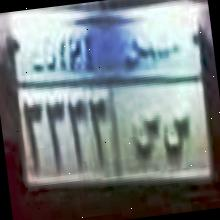3: (40, 94, 71, 174), (64, 96, 92, 168), (86, 94, 114, 165), (21, 94, 46, 168)
seen: (158, 102, 199, 161), (128, 106, 164, 160)
